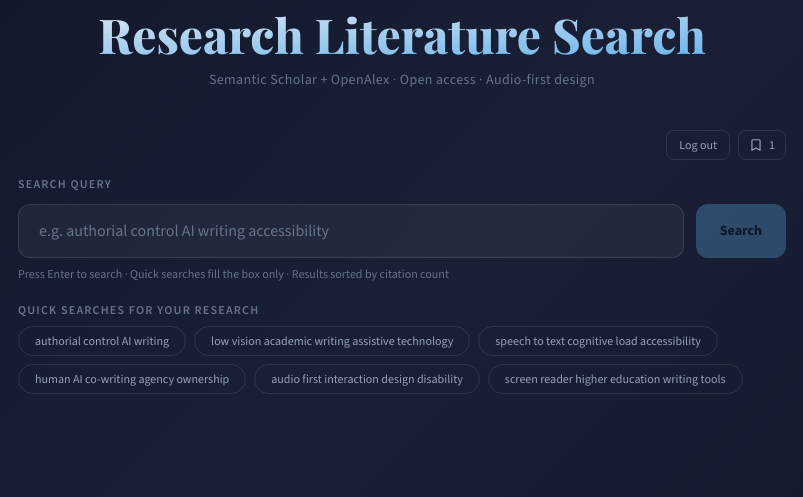
Home page › shows API errors from search failures
The image size is (803, 497).
In the search field named "enter your research search query": (351, 231) [18,204,684,258], type "audio research"
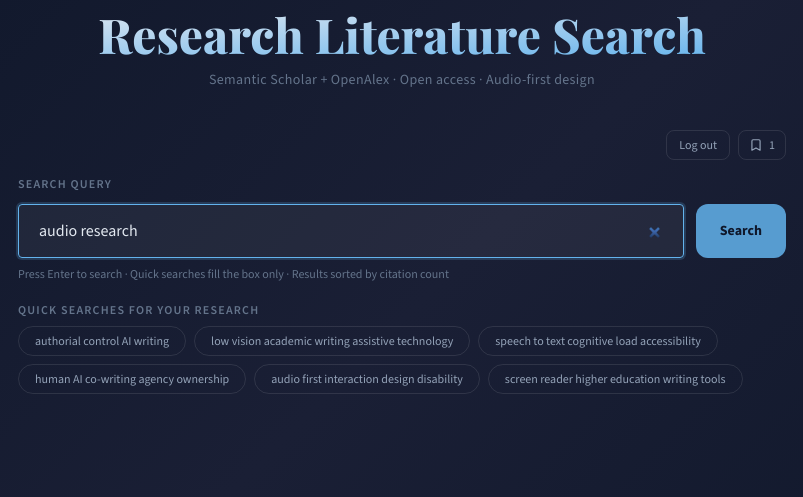
Click the button with aria-label "search for papers": (741, 231) [696,204,786,258]
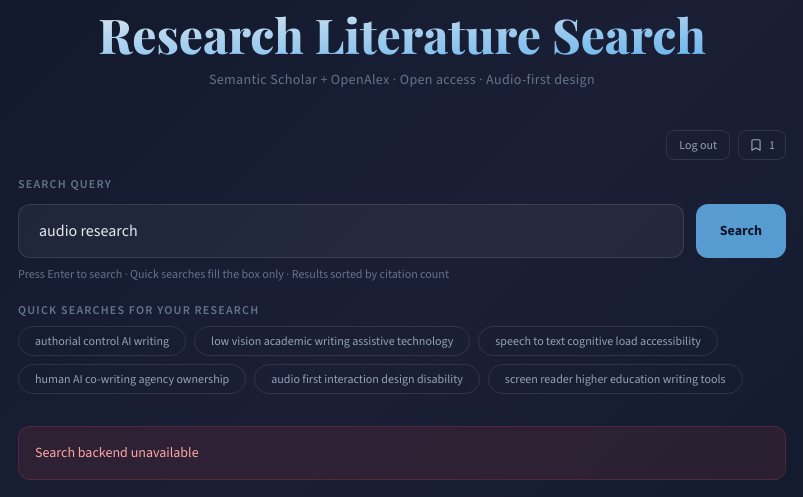
Now the message reads "Search backend unavailable", box [35,443,199,462]
